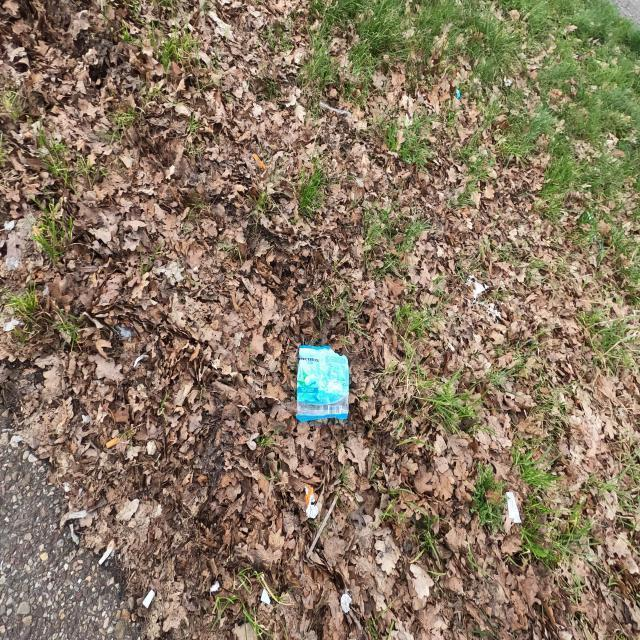Plastic: (296, 344, 350, 424), (304, 484, 320, 520)
